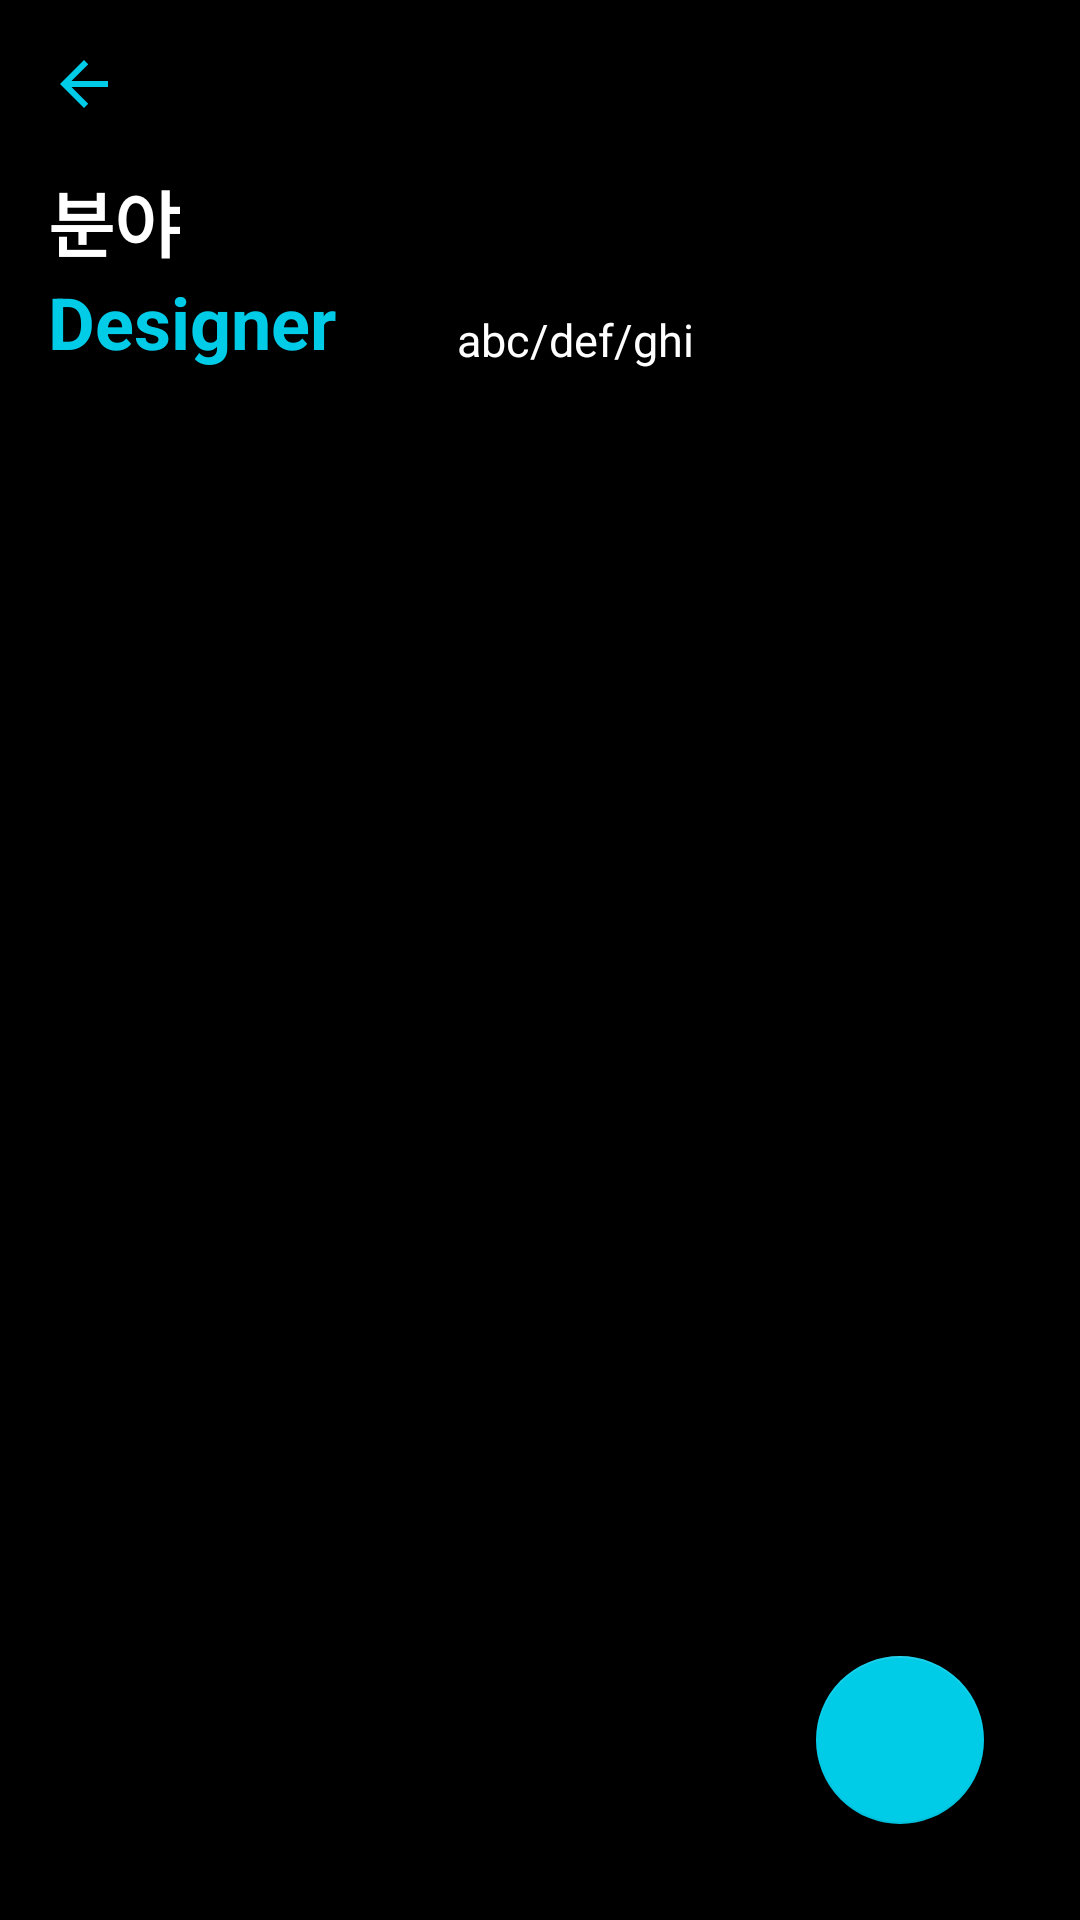

Where to tap for icons on this 1080w x 1920h app screen, as point (x, y):
create back: point (84, 84)
